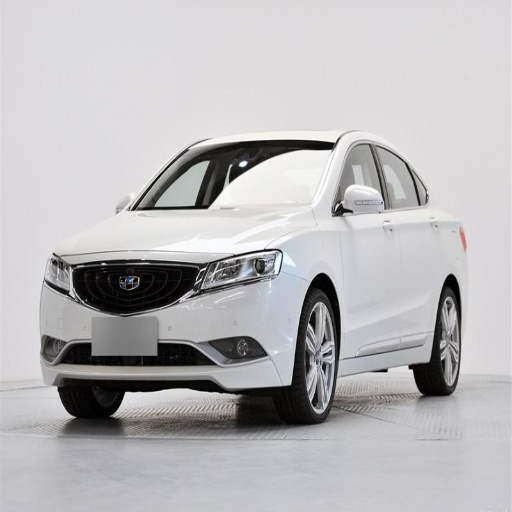back_left_door: (373, 142, 442, 341)
front_bumper: (41, 255, 306, 392)
front_glass: (129, 141, 333, 210)
front_left_door: (332, 138, 400, 351)
